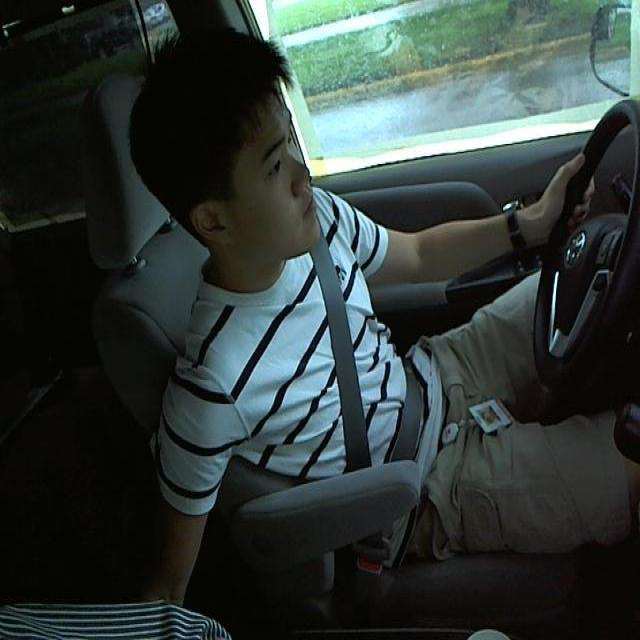seatbelt: (298, 259, 434, 480)
